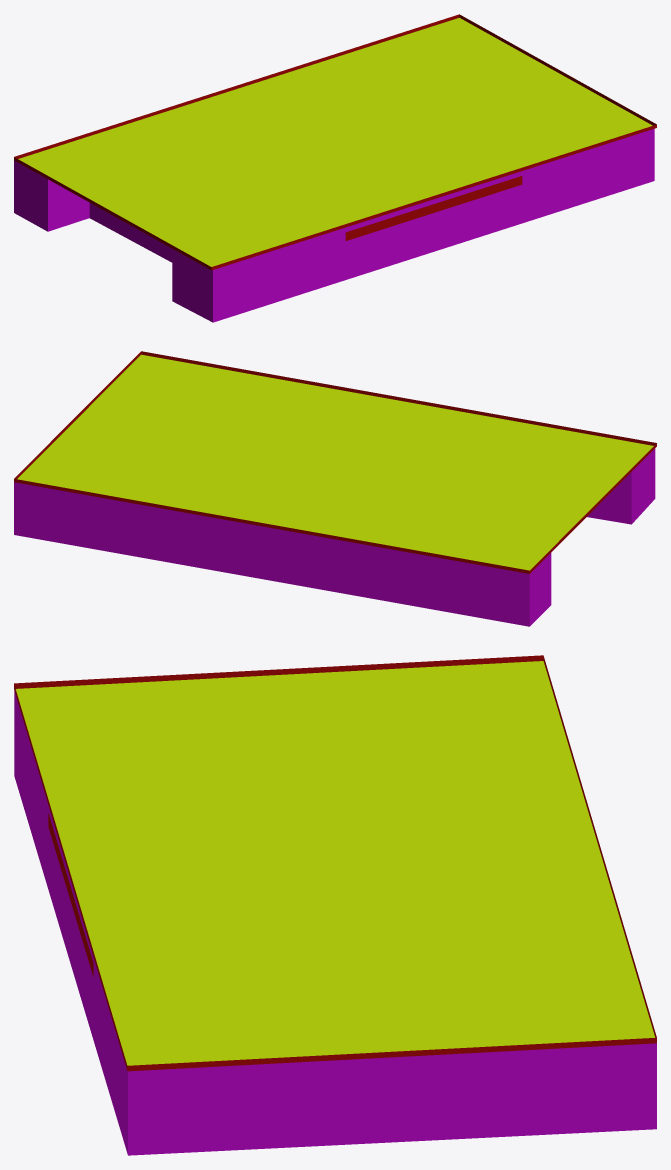
File: ssv_33.glb
3 views of the same model, one above another, from view 1: azimuth 30°, elevation 25°; view 2: azimuth 150°, elevation 25°; view 3: azimuth 270°, elevation 25° (orthographic). The views are drawn at different scales.
Parts seen in each view (by area): view 1: ssv_33; view 2: ssv_33; view 3: ssv_33.
Boxes of the visible parts, x1,y1,x2,y2 form: ssv_33: (14,14,656,322); ssv_33: (14,351,656,626); ssv_33: (14,655,656,1155).
Size of the model in its own units: 54.97 by 5.72 by 36.39.
